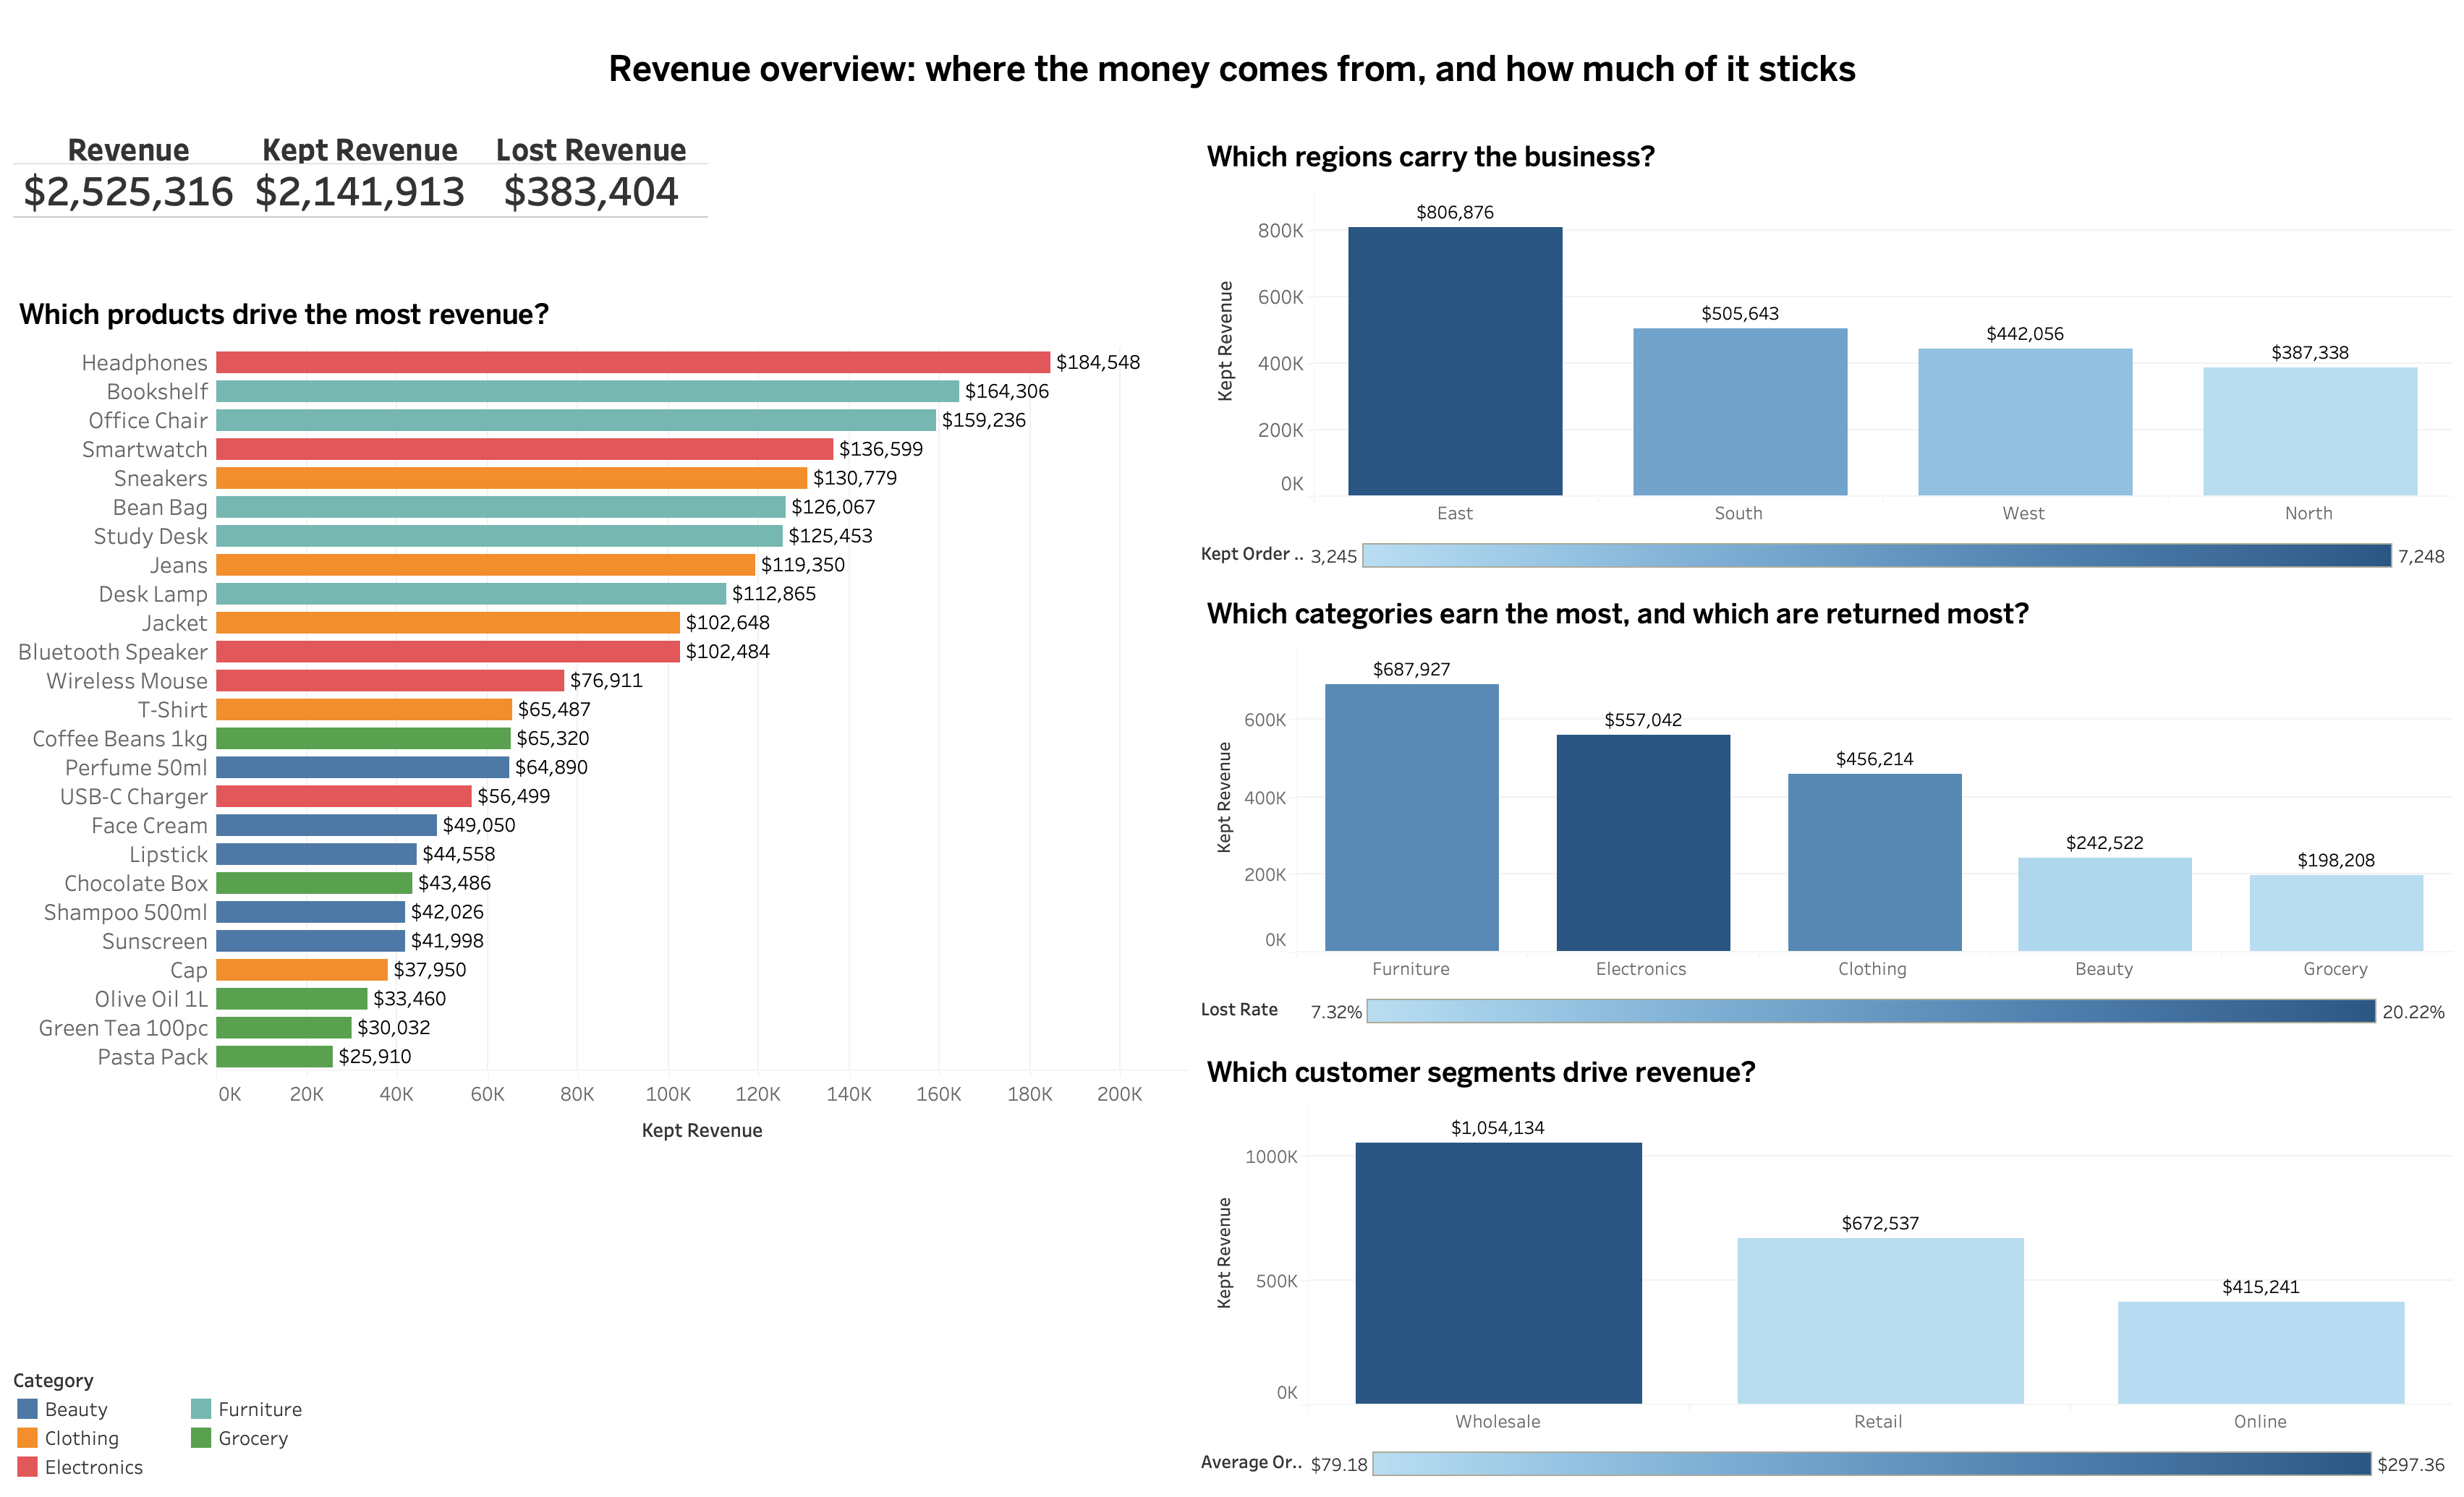

The dashboard page shown, as its layout file describes it:
{"tool":"tableau","page":{"name":"Revenue Overview","canvas":[1000,1000],"units":"permille","ordinal":3},"visuals":[{"type":"title","box":[5.3,9.2,989.3,95.7]},{"type":"worksheet","title":"03 Q1 KPI Summary","mark":"Text","box":[5.3,105,479.4,101.8]},{"type":"worksheet","title":"03 Q2 Region","mark":"Automatic","rows":["Calculation_0091241463054336"],"cols":["region"],"box":[484.7,105,509.9,261.2]},{"type":"worksheet","title":"03 Q5 Product","mark":"Automatic","rows":["product_name"],"cols":["Calculation_0091241463054336"],"box":[5.3,206.8,479.4,696.4]},{"type":"legend","title":"03 Q2 Region","param":"[federated.0hfglzq0l1mqyk14278fh0dpcm5w].[cnt:Calculation_0069732371591169:qk]","box":[484.7,366.2,509.9,35.2]},{"type":"worksheet","title":"03 Q3 Category","mark":"Automatic","rows":["Calculation_0091241463054336"],"cols":["category"],"box":[484.7,401.4,509.9,260.8]},{"type":"legend","title":"03 Q3 Category","param":"[federated.0hfglzq0l1mqyk14278fh0dpcm5w].[usr:Calculation_0091241463296002:qk]","box":[484.7,662.2,509.9,35.8]},{"type":"worksheet","title":"03 Q4 Segment","mark":"Automatic","rows":["Calculation_0091241463054336"],"cols":["customer_segment"],"box":[484.7,698,509.9,256.8]},{"type":"legend","title":"03 Q5 Product","param":"[federated.0hfglzq0l1mqyk14278fh0dpcm5w].[none:category:nk]","box":[5.3,903.2,479.4,87.6]},{"type":"legend","title":"03 Q4 Segment","param":"[federated.0hfglzq0l1mqyk14278fh0dpcm5w].[usr:Calculation_0069732370124800:qk]","box":[484.7,954.9,509.9,35.9]}]}

Visuals, with their boxes on the dashboard's canvas, which has no fixed pixel size, in thousandths of its width and height (x1, y1, x2, y2). These are canvas units, not pixel positions in the 2464x1497 screenshot, which may show the page scaled, cropped or inside an application window:
title: select_region(5, 9, 995, 105)
"03 Q1 KPI Summary" worksheet (Text marks): select_region(5, 105, 485, 207)
"03 Q2 Region" worksheet: select_region(485, 105, 995, 366)
"03 Q5 Product" worksheet: select_region(5, 207, 485, 903)
"03 Q2 Region" legend: select_region(485, 366, 995, 401)
"03 Q3 Category" worksheet: select_region(485, 401, 995, 662)
"03 Q3 Category" legend: select_region(485, 662, 995, 698)
"03 Q4 Segment" worksheet: select_region(485, 698, 995, 955)
"03 Q5 Product" legend: select_region(5, 903, 485, 991)
"03 Q4 Segment" legend: select_region(485, 955, 995, 991)
